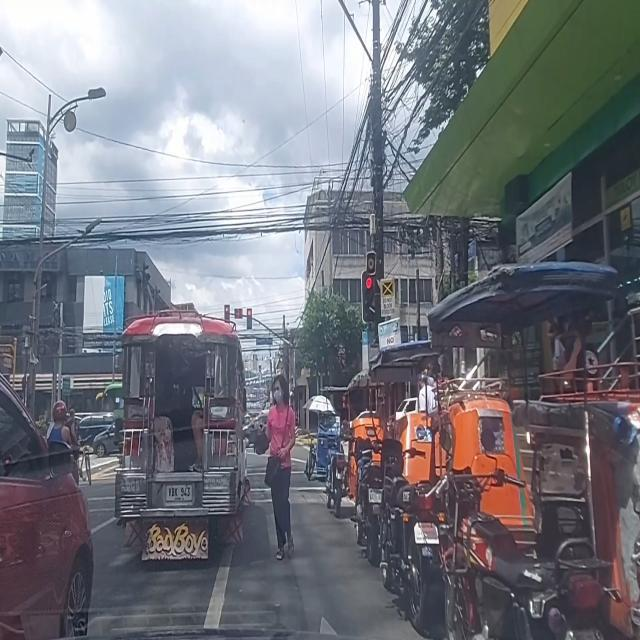bike: (77, 434, 91, 486)
bus: (100, 382, 126, 420)
car: (0, 369, 95, 639), (92, 422, 124, 457), (244, 412, 268, 448)
jeepney: (114, 310, 251, 560)
tricycle: (428, 262, 640, 640), (368, 340, 538, 630), (341, 370, 448, 566), (324, 418, 386, 518), (302, 395, 340, 483)
